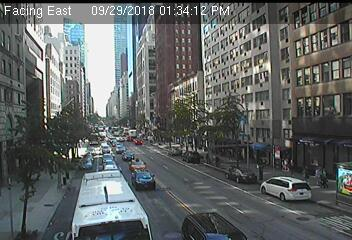car: (71, 172, 152, 240), (180, 213, 245, 240), (260, 176, 312, 202), (225, 167, 257, 184), (131, 169, 155, 190), (181, 151, 200, 164), (129, 159, 146, 172), (101, 160, 117, 173), (101, 153, 114, 164), (121, 151, 135, 161), (79, 159, 92, 169), (166, 147, 180, 155), (82, 153, 93, 162), (115, 145, 125, 153)
